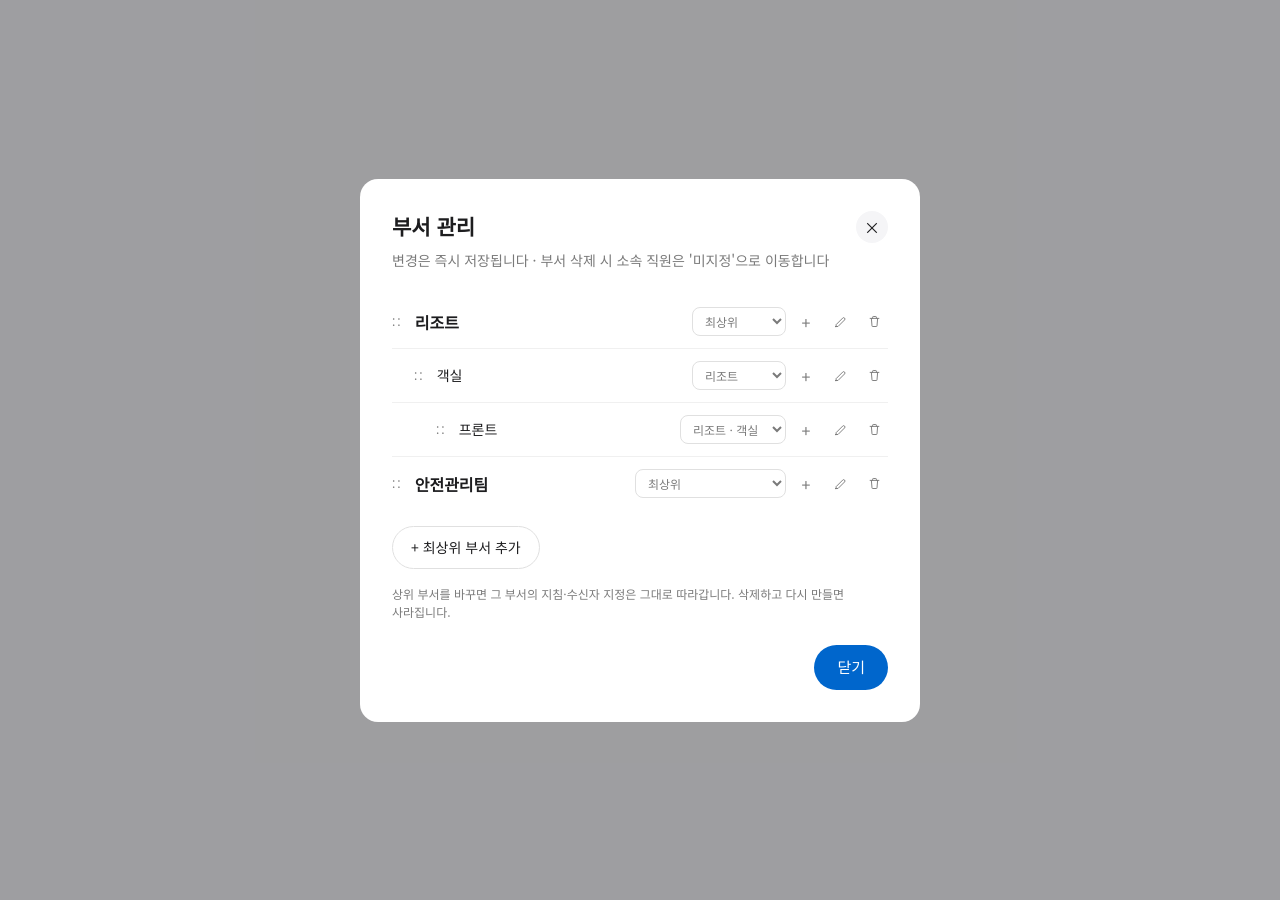
Test: DeptModal 상위 부서 이동 › 서버가 거절하면 그 문구를 보여준다
The image size is (1280, 900).
Select "안전관리팀" in the dropdown named "프론트 상위 부서": (733, 430) [680,415,786,444]
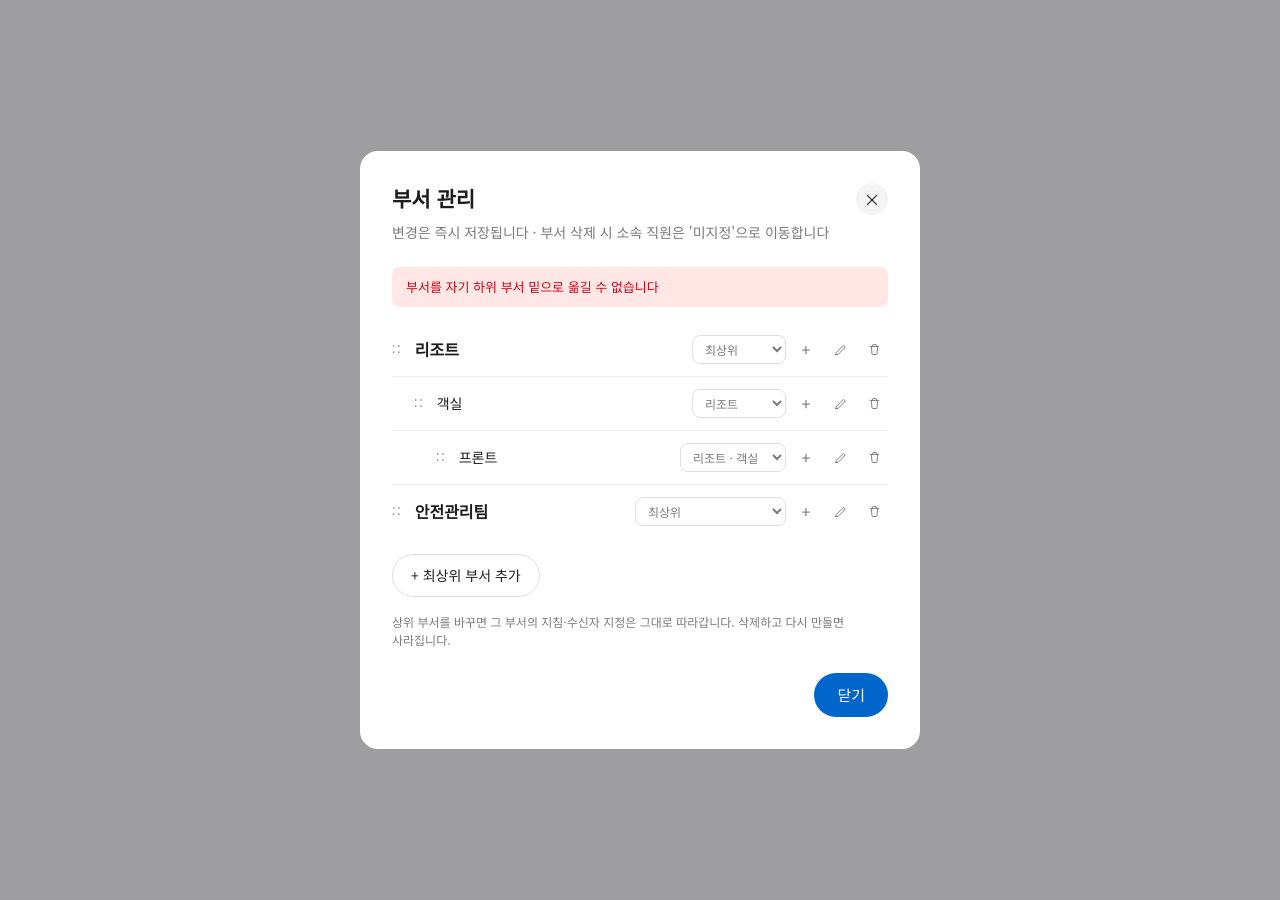
Expected: the text "부서를 자기 하위 부서 밑으로 옮길 수 없습니다" is shown, [392,267,888,307]
